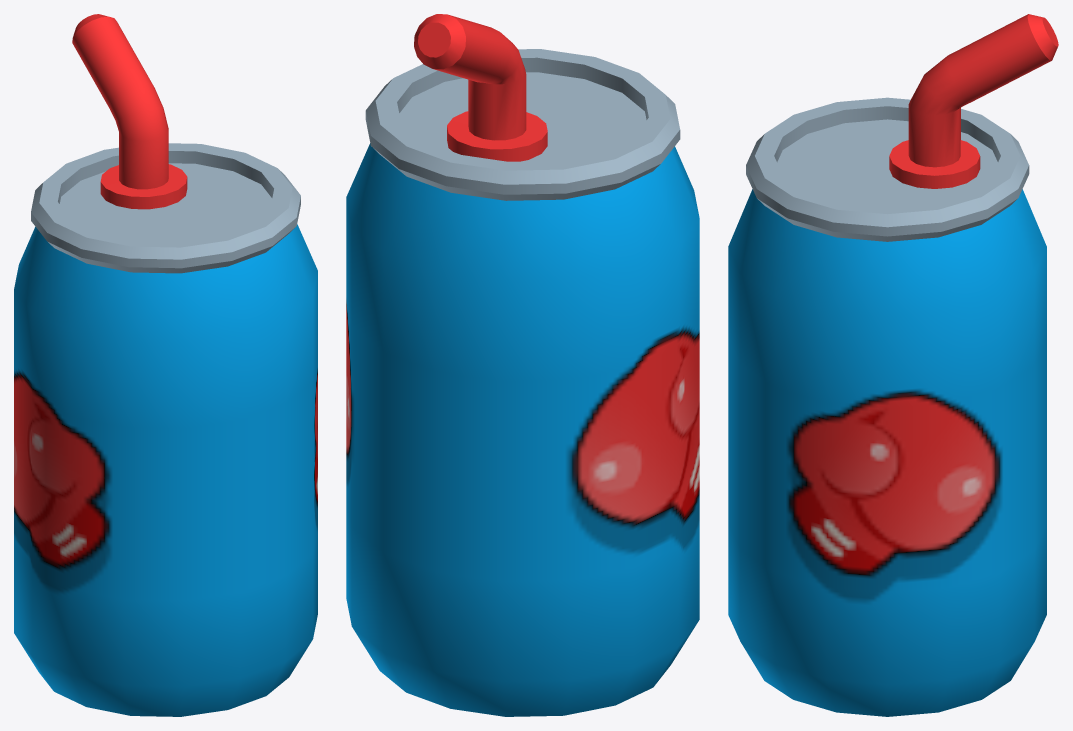
Rendered from jojoPunchBooster.fbx.
3 renders of one model, left to right at view 1: azimuth 30°, elevation 25°; view 2: azimuth 150°, elevation 25°; view 3: azimuth 270°, elevation 25°, orthographic. The views are drawn at different scales.
Visible parts, largest first — view 1: PunchBooster; view 2: PunchBooster; view 3: PunchBooster.
Part boxes in pixels (box(x1,y1,x2,y2)): PunchBooster: box(14, 14, 317, 716); PunchBooster: box(346, 14, 699, 716); PunchBooster: box(728, 14, 1058, 716).
Bounding box in the file's own units: 0.6365 × 1.36 × 0.6361.
